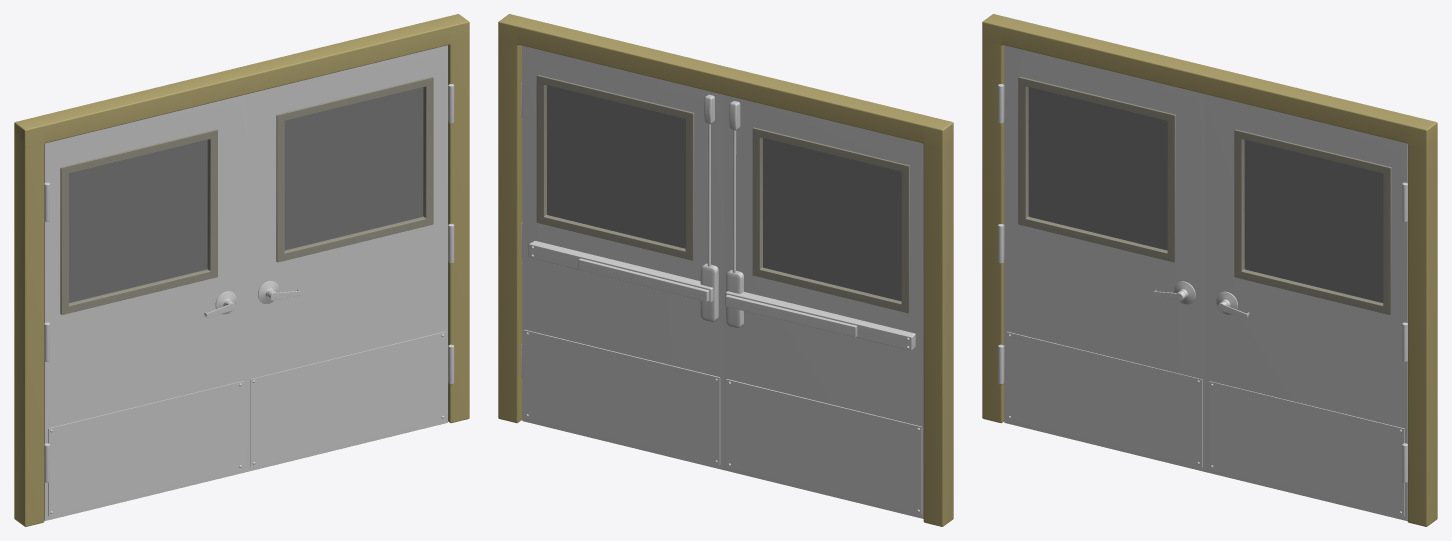
Rendered from MS Double Door.fbx.
The picture shows the model from 3 angles, left to right: view 1: azimuth 30°, elevation 25°; view 2: azimuth 150°, elevation 25°; view 3: azimuth 330°, elevation 25°; orthographic projection.
Parts seen in each view (by area): view 1: Door (×2), Door Frame, Right Window, Left Window, Left Door Panel Close, Right Door Panel Close; view 2: Door (×2), Door Frame, Left Window, Right Window, Right Door Panel Open, Left Door Panel Open, Box014, Box019, Box015, Box020, Left Push Handle, Right Push Handle (+1 smaller); view 3: Door (×2), Door Frame, Right Window, Left Window, Right Door Panel Close, Left Door Panel Close.
Part boxes in pixels (x1,y1,x2,y2): Door (×2): [44, 45, 447, 520]; Door Frame: [14, 14, 469, 526]; Right Window: [60, 129, 217, 314]; Left Window: [276, 76, 433, 262]; Left Door Panel Close: [250, 331, 446, 466]; Right Door Panel Close: [48, 381, 243, 516]; Door (×2): [522, 46, 923, 518]; Door Frame: [498, 14, 953, 526]; Left Window: [536, 75, 694, 260]; Right Window: [752, 127, 909, 313]; Right Door Panel Open: [726, 379, 922, 514]; Left Door Panel Open: [524, 329, 720, 465]; Box014: [725, 291, 915, 350]; Box019: [528, 241, 713, 302]; Box015: [725, 294, 857, 337]; Box020: [578, 258, 709, 301]; Left Push Handle: [700, 263, 718, 322]; Right Push Handle: [726, 270, 743, 328]; Door (×2): [1004, 45, 1407, 520]; Door Frame: [982, 14, 1437, 526]; Right Window: [1018, 76, 1175, 262]; Left Window: [1234, 129, 1391, 314]; Right Door Panel Close: [1006, 331, 1202, 467]; Left Door Panel Close: [1209, 381, 1404, 516].
Size of the model in its own units: 114 by 96.97 by 9.04.
